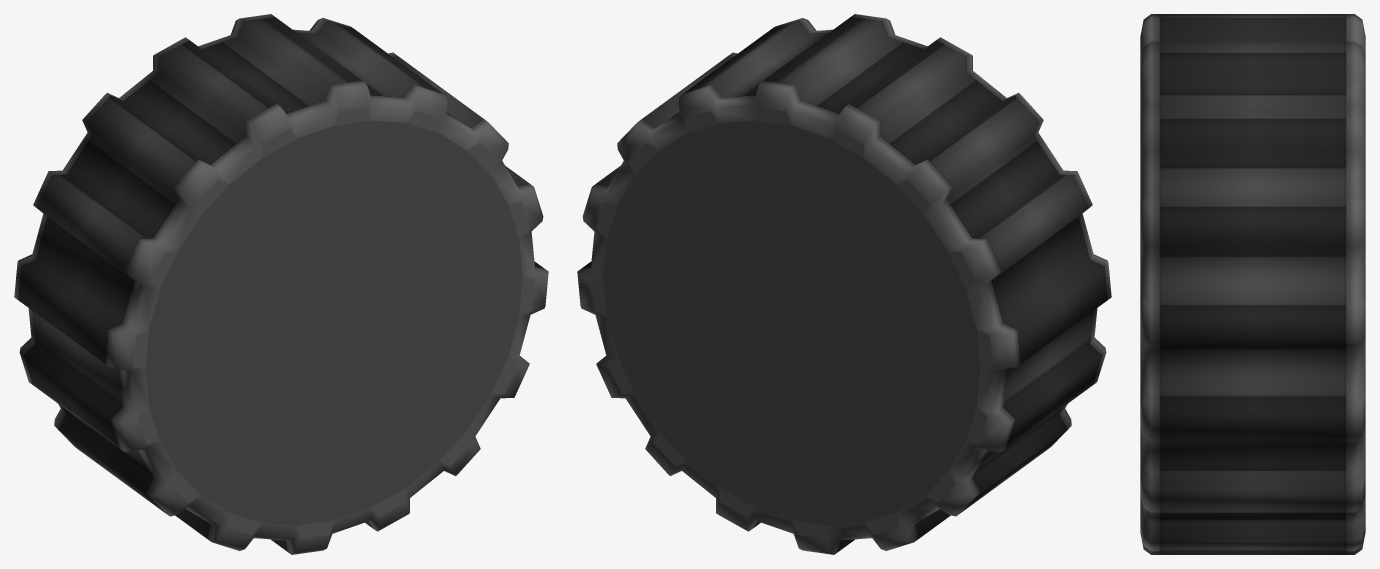
File: scroll_wheel_model.fbx
3 views of the same model, side by side, from view 1: azimuth 30°, elevation 25°; view 2: azimuth 150°, elevation 25°; view 3: azimuth 270°, elevation 25° (orthographic). The views are drawn at different scales.
Parts seen in each view (by area): view 1: Cylinder; view 2: Cylinder; view 3: Cylinder.
Boxes of the visible parts, x1,y1,x2,y2 form: Cylinder: [14, 14, 548, 554]; Cylinder: [577, 14, 1111, 554]; Cylinder: [1140, 14, 1365, 554].
Bounding box in the file's own units: 213 × 213 × 88.62.
